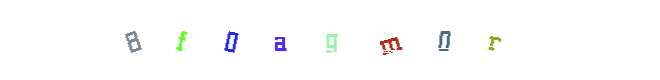0: (215, 0, 295, 80), (350, 0, 430, 80)
8: (183, 0, 263, 80)
A: (274, 0, 354, 80)
F: (202, 0, 282, 80)
G: (287, 0, 367, 80)
M: (290, 0, 370, 80)
R: (404, 0, 484, 80)
